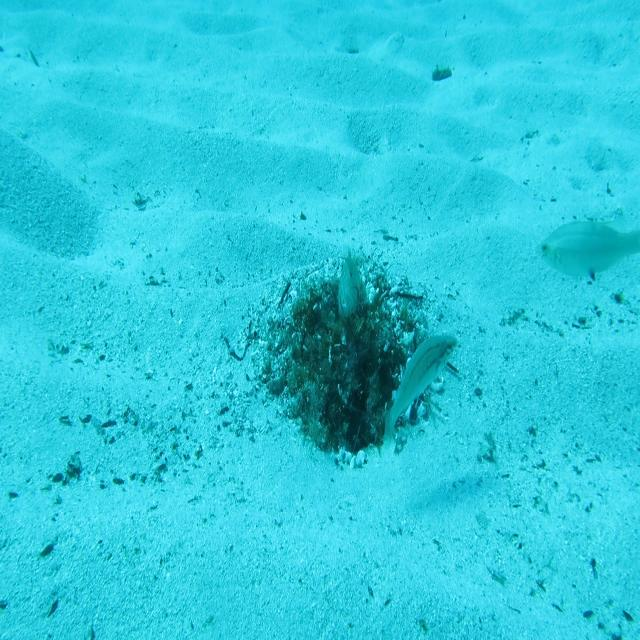NIP_CORE: (335, 249, 366, 325)
core_nest: (316, 307, 370, 355)
female: (381, 332, 460, 456), (531, 214, 640, 286)
nest: (244, 243, 457, 480)
vegetation: (431, 65, 454, 83)
